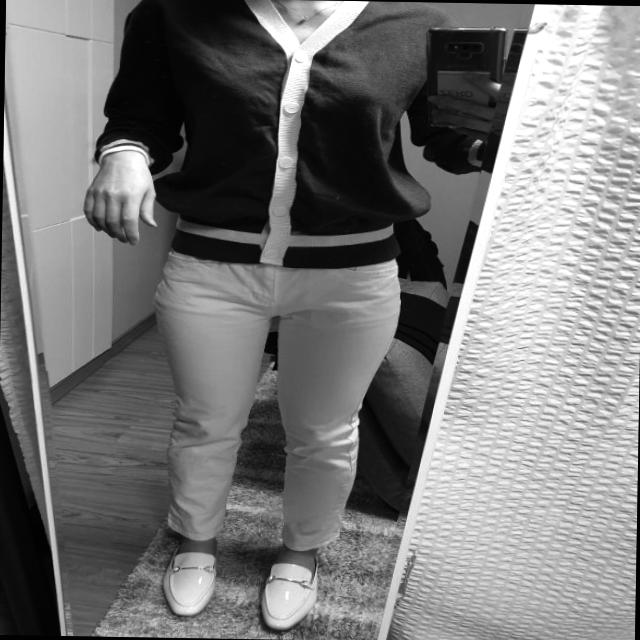cardigan: (93, 0, 465, 270)
cottonpants: (149, 247, 403, 552)
